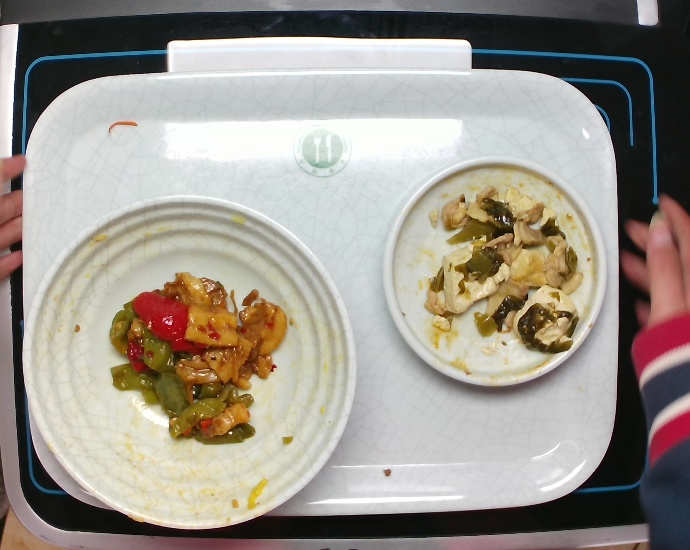JYsf-Da_Tang_Wan: (23, 189, 358, 546)
JYsf-Xiao_Yuan_Pan: (370, 155, 609, 404)
